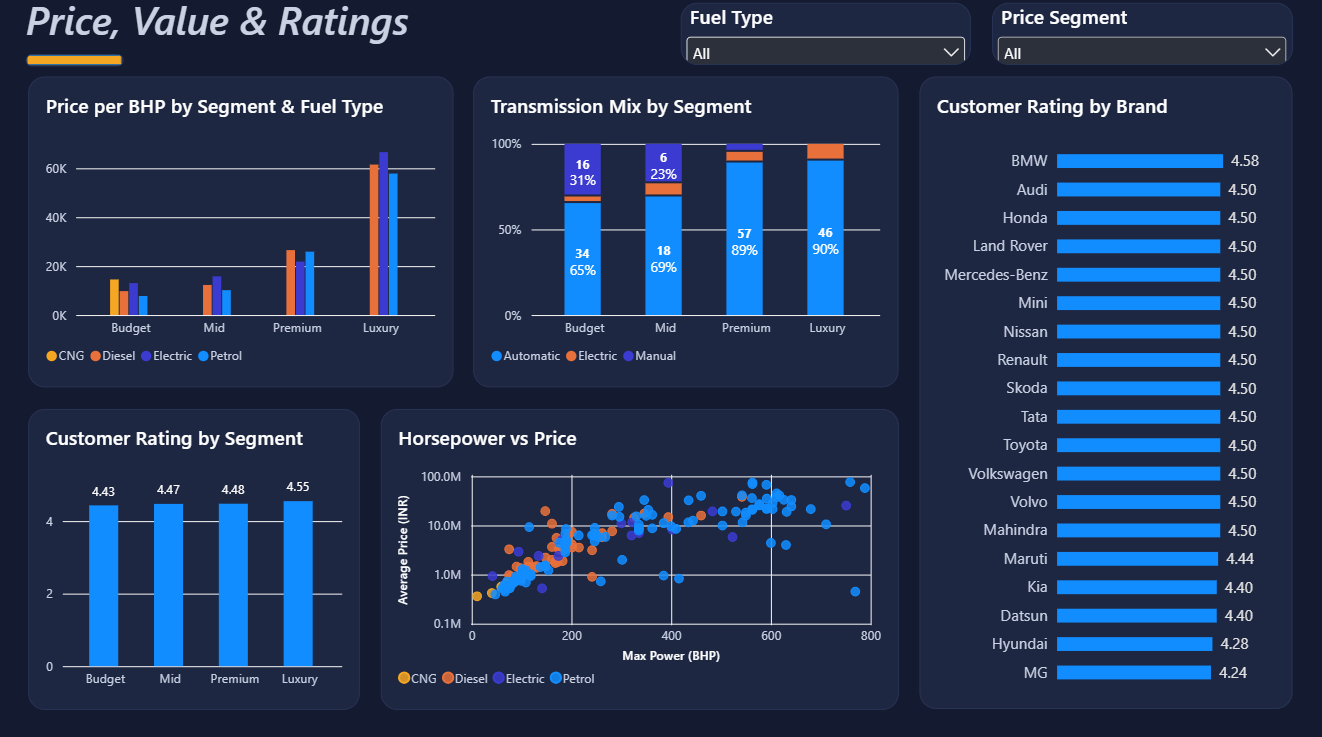

The page's visual inventory and layout, read from the dashboard file:
{"tool":"powerbi","page":{"name":"Price, Value&Ratings","canvas":[1280,720],"ordinal":2},"visuals":[{"type":"clusteredColumnChart","title":"Price per BHP by Segment & Fuel Type","fields":{"Category":["vw_CarAnalysis.price_segment"],"Series":["vw_CarAnalysis.fuel_type"],"Y":["vw_CarAnalysis.Price per BHP"]},"box":[30,80,410,300],"z":0},{"type":"clusteredColumnChart","title":"Customer Rating by Segment","fields":{"Category":["vw_CarAnalysis.price_segment"],"Y":["vw_CarAnalysis.Weighted Rating"]},"box":[30,400,320,290],"z":1},{"type":"hundredPercentStackedColumnChart","title":"Transmission Mix by Segment","fields":{"Category":["vw_CarAnalysis.price_segment"],"Series":["vw_CarAnalysis.transmission_type"],"Y":["vw_CarAnalysis.Cars"]},"box":[460,80,410,300],"z":2},{"type":"scatterChart","title":"Horsepower vs Price","fields":{"Series":["vw_CarAnalysis.fuel_type"],"X":["vw_CarAnalysis.max_power_bhp"],"Y":["vw_CarAnalysis.avg_price"]},"box":[370,400,500,290],"z":3},{"type":"clusteredBarChart","title":"Customer Rating by Brand","fields":{"Category":["vw_CarAnalysis.brand"],"Y":["vw_CarAnalysis.Weighted Rating"]},"box":[890,80,360,610],"z":4},{"type":"textbox","box":[28,0,404,70],"z":6},{"type":"shape","box":[28,58,94,12],"z":7},{"type":"slicer","fields":{"Values":["vw_CarAnalysis.fuel_type"]},"box":[660,8,280,60],"z":8},{"type":"slicer","fields":{"Values":["vw_CarAnalysis.price_segment"]},"box":[960,8,290,60],"z":9}]}

Visuals, with their boxes in screenshot pixels (x1, y1, x2, y2), scaled from the page's 1280x720 canvas onto the 1322x737 screenshot:
"Price per BHP by Segment & Fuel Type" clusteredColumnChart: detection(31, 82, 454, 389)
"Customer Rating by Segment" clusteredColumnChart: detection(31, 409, 361, 706)
"Transmission Mix by Segment" hundredPercentStackedColumnChart: detection(475, 82, 899, 389)
"Horsepower vs Price" scatterChart: detection(382, 409, 899, 706)
"Customer Rating by Brand" clusteredBarChart: detection(919, 82, 1291, 706)
textbox: detection(29, 0, 446, 72)
shape: detection(29, 59, 126, 72)
slicer - vw_CarAnalysis.fuel_type: detection(682, 8, 971, 70)
slicer - vw_CarAnalysis.price_segment: detection(991, 8, 1291, 70)
